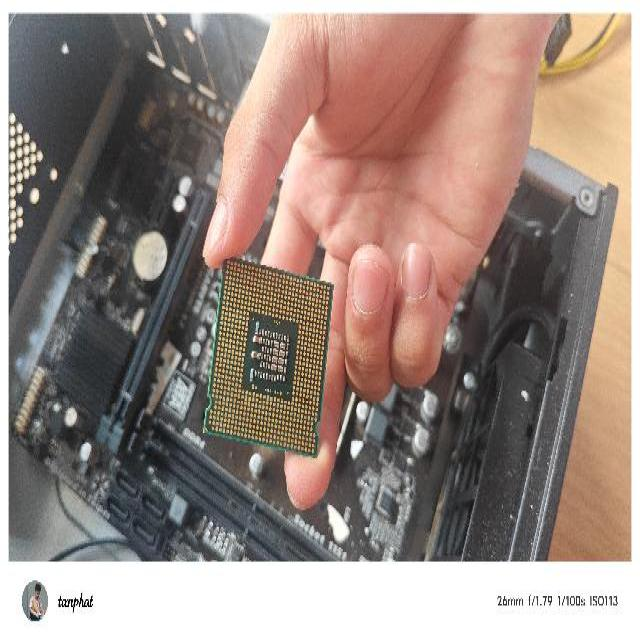CPU: (202, 251, 334, 461)
